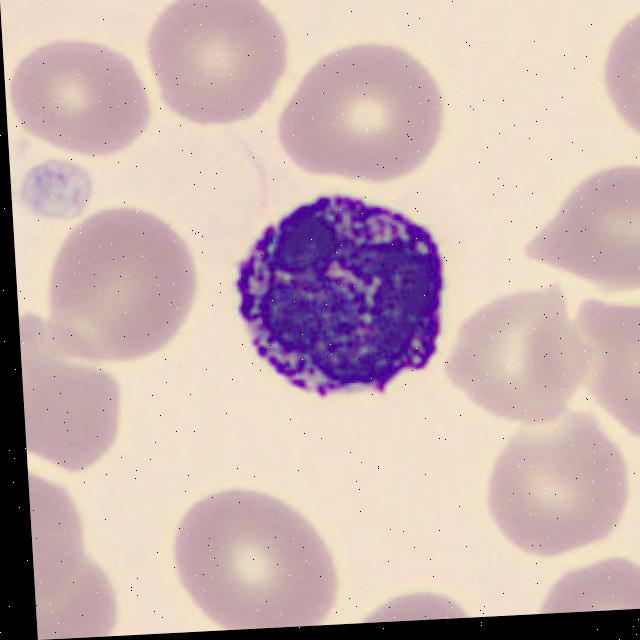basophil: (229, 181, 453, 407)
platelets: (18, 164, 90, 222)
rbc: (276, 44, 458, 196), (167, 488, 343, 633), (41, 210, 203, 367), (480, 413, 637, 558), (437, 280, 584, 425), (147, 0, 293, 132), (19, 315, 126, 480), (6, 36, 148, 158), (522, 169, 640, 299), (573, 292, 640, 453), (33, 551, 134, 640), (28, 470, 87, 608), (593, 0, 640, 153), (519, 559, 640, 615), (343, 587, 484, 624)
